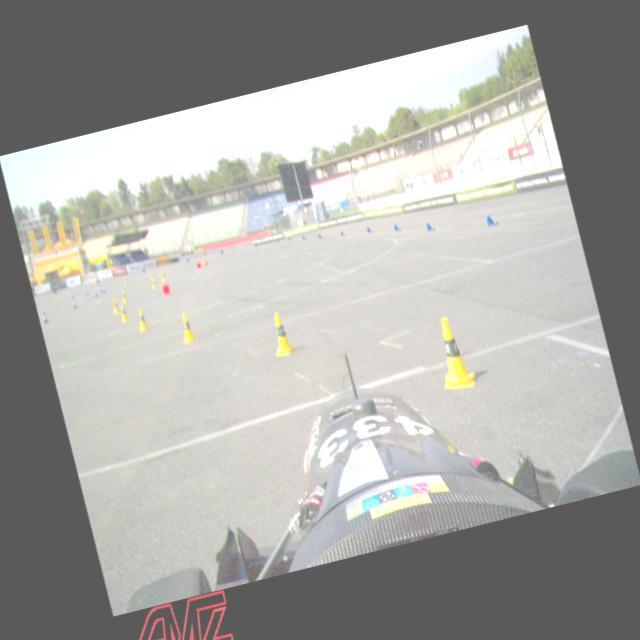blue_cone: (484, 211, 499, 229), (424, 220, 436, 233), (40, 310, 49, 324), (392, 221, 401, 232), (365, 224, 373, 234), (70, 298, 77, 309), (100, 282, 106, 294), (92, 288, 99, 298), (83, 286, 89, 296), (98, 284, 102, 292)
orange_cone: (160, 282, 172, 296), (200, 257, 208, 267), (195, 260, 202, 270)
yellow_cone: (428, 310, 478, 392), (264, 310, 296, 358), (176, 310, 198, 344), (134, 307, 150, 332), (118, 304, 130, 322), (110, 298, 120, 314), (120, 288, 128, 302), (150, 278, 157, 290), (148, 270, 154, 280), (122, 275, 128, 284), (160, 268, 165, 278), (160, 271, 164, 281)
